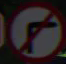Don't turn right: (14, 5, 62, 54)
